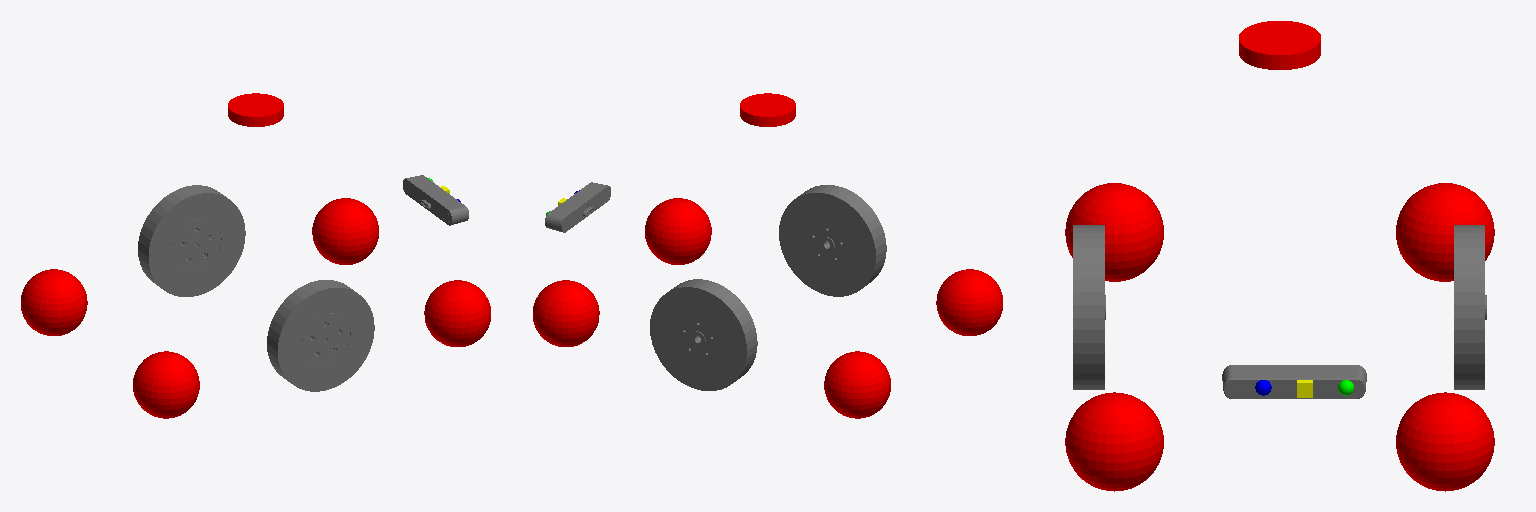
robot.urdf — robot_name:
<?xml version="1.0"?>
<robot name="robot_name">

  <joint name="base_footprint_joint" type="fixed">
    <parent link="base_link" />
    <child link="base_footprint" />
    <origin xyz="0 0 0" rpy="0 0 0" />
  </joint>

  <link name="base_footprint">
    <inertial>
      <mass value="0.1" />
      <origin xyz="0 0 0" rpy="0 0 0" />
      <inertia ixx="1e-5" ixy="0" ixz="0" iyy="1e-5" iyz="0" izz="1e-5" />
    </inertial>
  </link>

  <link name="base_link">
    <visual>
      <origin xyz="3.2 -0.32 0.0" rpy="1.5708 0.0 3.1416" />
      <geometry>
        <mesh filename="package://robot_description/src/meshes/chasis.STL" scale="0.001 0.001 0.001" />
      </geometry>
      <material name="chassis_grey">
        <color rgba="0.5 0.5 0.5 1.0" />
      </material>
    </visual>
    <collision>
      <origin xyz="3.2 -0.32 0.0" rpy="1.5708 0.0 3.1416" />
      <geometry>
        <mesh filename="package://robot_description/src/meshes/chasis.STL" scale="0.001 0.001 0.001" />
      </geometry>
    </collision>
    <inertial>
      <mass value="20.0" />
      <origin xyz="0 0 0.1325" rpy="0 0 0" />
      <inertia ixx="1.0" ixy="0" ixz="0" iyy="1.5" iyz="0" izz="2.0" />
    </inertial>
  </link>

  <link name="drivewhl_l_link">
    <visual>
      <origin xyz="0.1 -0.02 -0.1" rpy="1.5708 0 3.1416" />
      <geometry>
        <mesh filename="package://robot_description/src/meshes/wheel.STL" scale="0.001 0.001 0.001" />
      </geometry>
      <material name="wheel_grey_l">
        <color rgba="0.5 0.5 0.5 1.0" />
      </material>
    </visual>
    <collision>
      <origin xyz="0.1 -0.02 -0.1" rpy="1.5708 0 3.1416" />
      <geometry>
        <mesh filename="package://robot_description/src/meshes/wheel.STL" scale="0.001 0.001 0.001" />
      </geometry>
    </collision>
    <inertial>
      <mass value="2.0" />
      <origin xyz="0 0 0" rpy="0 0 0" />
      <inertia ixx="0.01" ixy="0" ixz="0" iyy="0.01" iyz="0" izz="0.02" />
    </inertial>
  </link>

  <joint name="drivewhl_l_joint" type="continuous">
    <parent link="base_link" />
    <child link="drivewhl_l_link" />
    <origin xyz="0.0 0.23 0.05" rpy="0 0 0" />
    <axis xyz="0 1 0" />
  </joint>

  <link name="drivewhl_r_link">
    <visual>
      <origin xyz="0.1 -0.02 -0.1" rpy="1.5708 0 3.1416" />
      <geometry>
        <mesh filename="package://robot_description/src/meshes/wheel.STL" scale="0.001 0.001 0.001" />
      </geometry>
      <material name="wheel_grey_r">
        <color rgba="0.5 0.5 0.5 1.0" />
      </material>
    </visual>
    <collision>
      <origin xyz="0.1 -0.02 -0.1" rpy="1.5708 0 3.1416" />
      <geometry>
        <mesh filename="package://robot_description/src/meshes/wheel.STL" scale="0.001 0.001 0.001" />
      </geometry>
    </collision>
    <inertial>
      <mass value="2.0" />
      <origin xyz="0 0 0" rpy="0 0 0" />
      <inertia ixx="0.01" ixy="0" ixz="0" iyy="0.01" iyz="0" izz="0.02" />
    </inertial>
  </link>

  <joint name="drivewhl_r_joint" type="continuous">
    <parent link="base_link" />
    <child link="drivewhl_r_link" />
    <origin xyz="0.0 -0.23 0.05" rpy="0 0 0" />
    <axis xyz="0 1 0" />
  </joint>

  <link name="caster_front_right_link">
    <inertial>
      <origin xyz="0 0 0" rpy="0 0 0" />
      <mass value="0.1" />
      <inertia ixx="0.0004" ixy="0" ixz="0" iyy="0.0004" iyz="0" izz="0.0004" />
    </inertial>
    <visual name="">
      <origin xyz="0.0 0.0 0.0" rpy="0.0 0.0 0.0" />
      <geometry>
        <sphere radius="0.06" />
      </geometry>
      <material name="">
        <color rgba="1.0 0.0 0.0 1.0" />
      </material>
    </visual>
    <collision>
      <origin xyz="0.0 0.0 0.0" rpy="0.0 0.0 0.0" />
      <geometry>
        <sphere radius="0.06" />
      </geometry>
    </collision>
  </link>

  <joint name="caster_front_right_joint" type="continuous">
    <parent link="base_link" />
    <child link="caster_front_right_link" />
    <origin xyz="0.3 -0.2 0.0105" rpy="0 0 0" />
    <axis xyz="0 0 1" />
  </joint>

  <link name="caster_front_left_link">
    <inertial>
      <origin xyz="0 0 0" rpy="0 0 0" />
      <mass value="0.1" />
      <inertia ixx="0.0004" ixy="0" ixz="0" iyy="0.0004" iyz="0" izz="0.0004" />
    </inertial>
    <visual name="">
      <origin xyz="0.0 0.0 0.0" rpy="0.0 0.0 0.0" />
      <geometry>
        <sphere radius="0.06" />
      </geometry>
      <material name="">
        <color rgba="1.0 0.0 0.0 1.0" />
      </material>
    </visual>
    <collision>
      <origin xyz="0.0 0.0 0.0" rpy="0.0 0.0 0.0" />
      <geometry>
        <sphere radius="0.06" />
      </geometry>
    </collision>
  </link>

  <joint name="caster_front_left_joint" type="continuous">
    <parent link="base_link" />
    <child link="caster_front_left_link" />
    <origin xyz="0.3 0.2 0.0105" rpy="0 0 0" />
    <axis xyz="0 0 1" />
  </joint>

  <link name="caster_back_right_link">
    <inertial>
      <origin xyz="0 0 0" rpy="0 0 0" />
      <mass value="0.1" />
      <inertia ixx="0.0004" ixy="0" ixz="0" iyy="0.0004" iyz="0" izz="0.0004" />
    </inertial>
    <visual name="">
      <origin xyz="0.0 0.0 0.0" rpy="0.0 0.0 0.0" />
      <geometry>
        <sphere radius="0.06" />
      </geometry>
      <material name="">
        <color rgba="1.0 0.0 0.0 1.0" />
      </material>
    </visual>
    <collision>
      <origin xyz="0.0 0.0 0.0" rpy="0.0 0.0 0.0" />
      <geometry>
        <sphere radius="0.06" />
      </geometry>
    </collision>
  </link>

  <joint name="caster_back_right_joint" type="continuous">
    <parent link="base_link" />
    <child link="caster_back_right_link" />
    <origin xyz="-0.3 -0.2 0.0105" rpy="0 0 0" />
    <axis xyz="0 0 1" />
  </joint>

  <link name="caster_back_left_link">
    <inertial>
      <origin xyz="0 0 0" rpy="0 0 0" />
      <mass value="0.1" />
      <inertia ixx="0.0004" ixy="0" ixz="0" iyy="0.0004" iyz="0" izz="0.0004" />
    </inertial>
    <visual name="">
      <origin xyz="0.0 0.0 0.0" rpy="0.0 0.0 0.0" />
      <geometry>
        <sphere radius="0.06" />
      </geometry>
      <material name="">
        <color rgba="1.0 0.0 0.0 1.0" />
      </material>
    </visual>
    <collision>
      <origin xyz="0.0 0.0 0.0" rpy="0.0 0.0 0.0" />
      <geometry>
        <sphere radius="0.06" />
      </geometry>
    </collision>
  </link>

  <joint name="caster_back_left_joint" type="continuous">
    <parent link="base_link" />
    <child link="caster_back_left_link" />
    <origin xyz="-0.3 0.2 0.0105" rpy="0 0 0" />
    <axis xyz="0 0 1" />
  </joint>

  <link name="zed_camera_link">
    <visual>
      <origin xyz="0 -0.1 0" rpy="0 0 1.5708" />
      <geometry>
        <mesh filename="package://robot_description/src/meshes/zed.STL" scale="0.001 0.001 0.001" />
      </geometry>
      <material name="Gray">
        <color rgba="0.5 0.5 0.5 1.0" />
      </material>
    </visual>
    <collision>
      <origin xyz="0 -0.1 0" rpy="0 0 1.5708" />
      <geometry>
        <mesh filename="package://robot_description/src/meshes/zed.STL" scale="0.001 0.001 0.001" />
      </geometry>
    </collision>
  </link>

  <joint name="zed_camera_joint" type="fixed">
    <parent link="base_link" />
    <child link="zed_camera_link" />
    <origin xyz="0.4 0.03 0.11" rpy="0 0 0" />
  </joint>

  <joint name="zed_camera_optical_joint" type="fixed">
    <parent link="zed_camera_link" />
    <child link="zed_left_optical_frame" />
    <origin xyz="0.0 0.05 0.02" rpy="-1.5708 0 -1.5708" />
  </joint>

  <link name="zed_left_optical_frame">
    <inertial>
      <mass value="0.1" />
      <origin xyz="0 0 0" rpy="0 0 0" />
      <inertia ixx="1e-5" ixy="0" ixz="0" iyy="1e-5" iyz="0" izz="1e-5" />
    </inertial>
    <visual>
      <origin xyz="0 0 0" rpy="0 0 0" />
      <geometry>
        <sphere radius="0.01" />
      </geometry>
      <material name="camera_frame">
        <color rgba="0.0 1.0 0.0 1.0" />
      </material>
    </visual>
    <collision>
      <origin xyz="0 0 0" rpy="0 0 0" />
      <geometry>
        <sphere radius="0.01" />
      </geometry>
    </collision>
  </link>

  <joint name="zed_camera_right_optical_joint" type="fixed">
    <parent link="zed_camera_link" />
    <child link="zed_right_optical_frame" />
    <origin xyz="0 -0.05 0.02" rpy="-1.5708 3.1416 -1.5708" />
  </joint>

  <link name="zed_right_optical_frame">
    <inertial>
      <mass value="0.1" />
      <origin xyz="0 0 0" rpy="0 0 0" />
      <inertia ixx="1e-5" ixy="0" ixz="0" iyy="1e-5" iyz="0" izz="1e-5" />
    </inertial>
    <visual>
      <origin xyz="0 0 0" rpy="0 0 0" />
      <geometry>
        <sphere radius="0.01" />
      </geometry>
      <material name="camera_frame">
        <color rgba="0.0 0.0 1.0 1.0" />
      </material>
    </visual>
    <collision>
      <origin xyz="0 0 0" rpy="0 0 0" />
      <geometry>
        <sphere radius="0.01" />
      </geometry>
    </collision>
  </link>

  <joint name="zed_imu_joint" type="fixed">
    <parent link="zed_camera_link" />
    <child link="zed_imu_link" />
    <origin xyz="0 0 0.02" rpy="0 0 0" />
  </joint>

  <link name="zed_imu_link">
    <inertial>
      <mass value="0.05" />
      <origin xyz="0 0 0" rpy="0 0 0" />
      <inertia ixx="1e-5" ixy="0" ixz="0" iyy="1e-5" iyz="0" izz="1e-5" />
    </inertial>
    <visual>
      <origin xyz="0 0 0" rpy="0 0 0" />
      <geometry>
        <box size="0.02 0.02 0.02" />
      </geometry>
      <material name="imu_frame">
        <color rgba="1.0 1.0 0.0 1.0" />
      </material>
    </visual>
    <collision>
      <origin xyz="0 0 0" rpy="0 0 0" />
      <geometry>
        <box size="0.02 0.02 0.02" />
      </geometry>
    </collision>
  </link>

  <link name="rplidar_c1">
    <inertial>
      <origin xyz="0.0 0.0 0.0" rpy="0.0 0.0 0.0" />
      <mass value="0.4" />
      <inertia ixx="1e-4" ixy="0.0" ixz="0.0" iyy="1e-4" iyz="0.0" izz="2e-4" />
    </inertial>
    <visual name="">
      <origin xyz="0.0 0.0 0.0" rpy="0.0 0.0 0.0" />
      <geometry>
        <cylinder radius="0.05" length="0.02" />
      </geometry>
      <material name="">
        <color rgba="1.0 0.0 0.0 1.0" />
      </material>
    </visual>
    <collision>
      <origin xyz="0.0 0.0 0.0" rpy="0.0 0.0 0.0" />
      <geometry>
        <cylinder radius="0.05" length="0.02" />
      </geometry>
    </collision>
  </link>

  <joint name="rplidar_joint" type="fixed">
    <parent link="base_link" />
    <child link="rplidar_c1" />
    <origin xyz="0.0 0.0 0.4" rpy="0.0 0.0 0.0" />
  </joint>

  <gazebo>
    <plugin filename="gz-sim-joint-controller-system"
      name="gz::sim::systems::JointController">
      <joint_name>drivewhl_l_joint</joint_name>
      <initial_velocity>0.0</initial_velocity>
      <topic>left_motor_angular_vel</topic>
    </plugin>
  </gazebo>
  <gazebo>
    <plugin filename="gz-sim-joint-controller-system"
      name="gz::sim::systems::JointController">
      <joint_name>drivewhl_r_joint</joint_name>
      <initial_velocity>0.0</initial_velocity>
      <topic>right_motor_angular_vel</topic>
    </plugin>
  </gazebo>
  <gazebo>
    <plugin
        filename="ignition-gazebo-odometry-publisher-system"
        name="ignition::gazebo::systems::OdometryPublisher">
        <odom_publish_frequency>30</odom_publish_frequency>
        <odom_topic>ground_truth_odom</odom_topic>
        <odom_frame>odom</odom_frame>
        <robot_base_frame>base_link</robot_base_frame>
    </plugin>
  </gazebo>

  <gazebo>
    <plugin filename="libignition-gazebo-imu-system"
      name="ignition::gazebo::systems::Imu">
    </plugin>
  </gazebo>
  <gazebo reference="zed_imu_link">
    <sensor name="imu_sensor" type="imu">
      <always_on>1</always_on>
      <update_rate>100</update_rate>
      <visualize>true</visualize>
      <topic>/zed/zed_node/imu/data_raw</topic>
      <angular_velocity>
        <noise type="gaussian">
          <mean>0.0</mean>
          <stddev>0.002</stddev>
        </noise>
      </angular_velocity>
      <linear_acceleration>
        <noise type="gaussian">
          <mean>0.0</mean>
          <stddev>0.1</stddev>
        </noise>
      </linear_acceleration>
    </sensor>
  </gazebo>
  <gazebo>
    <plugin
      filename="gz-sim-joint-state-publisher-system"
      name="gz::sim::systems::JointStatePublisher">
      <topic>joint_states</topic>
      <joint_name>drivewhl_l_joint</joint_name>
      <joint_name>drivewhl_r_joint</joint_name>
      <joint_name>caster_front_right_joint</joint_name>
      <joint_name>caster_front_left_joint</joint_name>
      <joint_name>caster_back_right_joint</joint_name>
      <joint_name>caster_back_left_joint</joint_name>
    </plugin>
  </gazebo>

  <gazebo reference="zed_camera_link">
    <plugin
      filename="libignition-gazebo-sensors-system"
      name="ignition::gazebo::systems::Sensors">
      <render_engine>ogre2</render_engine>
    </plugin>

    <sensor name="zed2i_rgb" type="camera">
      <always_on>true</always_on>
      <visualize>true</visualize>
      <update_rate>60</update_rate>

      <camera name="zed2i_rgb">
        <horizontal_fov>1.02974</horizontal_fov>
        <image>
          <width>320</width>
          <height>240</height>
          <format>R8G8B8</format>
        </image>
        <clip>
          <near>0.02</near>
          <far>300</far>
        </clip>
        <noise>
          <type>gaussian</type>
          <mean>0.0</mean>
          <stddev>0.07</stddev>
        </noise>

        <camera_info>
          <width>320</width>
          <height>240</height>
          <K>700 0 960 0 700 540 0 0 1</K>
          <D>0 0 0 0 0</D>
          <distortion_model>plumb_bob</distortion_model>
        </camera_info>
        <camera_info_topic>/zed/zed_node/left/camera_info</camera_info_topic>
        <optical_frame_id>zed_left_optical_frame</optical_frame_id>
      </camera>
      <topic>/zed/zed_node/left/image_rect_color</topic>
    </sensor>

    <sensor name="zed2i_rgb_right" type="camera">
      <always_on>true</always_on>
      <visualize>true</visualize>
      <update_rate>60</update_rate>

      <camera name="zed2i_rgb_right">
        <horizontal_fov>1.02974</horizontal_fov>
        <image>
          <width>320</width>
          <height>240</height>
          <format>R8G8B8</format>
        </image>
        <clip>
          <near>0.02</near>
          <far>300</far>
        </clip>
        <noise>
          <type>gaussian</type>
          <mean>0.0</mean>
          <stddev>0.07</stddev>
        </noise>

        <camera_info>
          <width>320</width>
          <height>240</height>
          <K>700 0 960 0 700 540 0 0 1</K>
          <D>0 0 0 0 0</D>
          <distortion_model>plumb_bob</distortion_model>
        </camera_info>
        <camera_info_topic>/zed/zed_node/right/camera_info</camera_info_topic>
        <optical_frame_id>zed_right_optical_frame</optical_frame_id>
      </camera>
      <topic>/zed/zed_node/right/image_rect_color</topic>
    </sensor>

    <sensor name="zed2i_depth" type="depth">
      <always_on>true</always_on>
      <visualize>true</visualize>
      <update_rate>60</update_rate>
      <depth_camera name="zed2i_depth">
        <horizontal_fov>1.02974</horizontal_fov>
        <clip>
          <near>0.02</near>
          <far>40.0</far>
        </clip>
        <noise>
          <type>gaussian</type>
          <mean>0.0</mean>
          <stddev>0.07</stddev>
        </noise>
        <camera_info>
          <width>320</width>
          <height>240</height>
          <K>700 0 960 0 700 540 0 0 1</K>
          <D>0 0 0 0 0</D>
          <distortion_model>plumb_bob</distortion_model>
        </camera_info>
      </depth_camera>
      <topic>/zed/zed_node/depth/depth_registered</topic>
      <optical_frame_id>zed_left_optical_frame</optical_frame_id>
    </sensor>
  </gazebo>
  <gazebo reference="rplidar_c1">
    <sensor type="gpu_ray" name="lidar_sensor">
      <always_on>1</always_on>
      <visualize>true</visualize>
      <update_rate>20</update_rate>
      <topic>/gz_lidar/scan</topic>
      <lidar>
        <scan>
          <horizontal>
            <samples>720</samples>
            <resolution>1</resolution>
            <min_angle>-3.1415</min_angle>
            <max_angle>3.1415</max_angle>
          </horizontal>
        </scan>
        <range>
          <min>0.8</min>
          <max>60.0</max>
          <resolution>0.01</resolution>
        </range>
        <noise>
          <type>gaussian</type>
          <mean>0.0</mean>
          <stddev>0.01</stddev>
        </noise>
      </lidar>
    </sensor>
  </gazebo>
</robot>

--- Facts derived from the render (not from the file) ---
3 views of the same robot in one strip: view 1: azimuth 30°, elevation 25°; view 2: azimuth 150°, elevation 25°; view 3: azimuth 270°, elevation 25° (orthographic).
Model robot_name with 13 links and 12 joints (6 continuous, 6 fixed), rooted at base_link, posed every joint at zero.
Visible links, largest first — view 1: drivewhl_r_link, drivewhl_l_link, caster_front_right_link, caster_back_right_link, caster_back_left_link, caster_front_left_link, zed_camera_link, rplidar_c1; view 2: drivewhl_l_link, drivewhl_r_link, caster_front_left_link, caster_back_left_link, caster_back_right_link, caster_front_right_link, zed_camera_link, rplidar_c1; view 3: caster_front_right_link, caster_front_left_link, caster_back_left_link, caster_back_right_link, drivewhl_r_link, drivewhl_l_link, zed_camera_link, rplidar_c1.
Boxes of the visible links, <box> form: drivewhl_r_link: <box>267,280,374,391</box>; drivewhl_l_link: <box>138,185,245,296</box>; caster_front_right_link: <box>424,280,490,346</box>; caster_back_right_link: <box>133,351,199,418</box>; caster_back_left_link: <box>21,269,87,335</box>; caster_front_left_link: <box>312,198,378,264</box>; zed_camera_link: <box>403,175,468,225</box>; rplidar_c1: <box>228,93,283,126</box>; drivewhl_l_link: <box>650,279,757,390</box>; drivewhl_r_link: <box>779,185,886,296</box>; caster_front_left_link: <box>533,280,599,346</box>; caster_back_left_link: <box>824,351,890,418</box>; caster_back_right_link: <box>936,269,1002,335</box>; caster_front_right_link: <box>645,198,711,264</box>; zed_camera_link: <box>545,182,610,232</box>; rplidar_c1: <box>740,93,795,126</box>; caster_front_right_link: <box>1065,392,1163,491</box>; caster_front_left_link: <box>1396,392,1494,491</box>; caster_back_left_link: <box>1396,183,1494,281</box>; caster_back_right_link: <box>1065,183,1163,281</box>; drivewhl_r_link: <box>1073,225,1105,389</box>; drivewhl_l_link: <box>1454,225,1486,389</box>; zed_camera_link: <box>1222,365,1366,398</box>; rplidar_c1: <box>1239,21,1320,69</box>.
Size in the robot's own frame: 0.77 by 0.52 by 0.46 metres.
Meshes: 3 distinct files referenced, 3 mesh visuals loaded (2 binary STL); not drawn: 1 (reference not matched to a file when rendering).